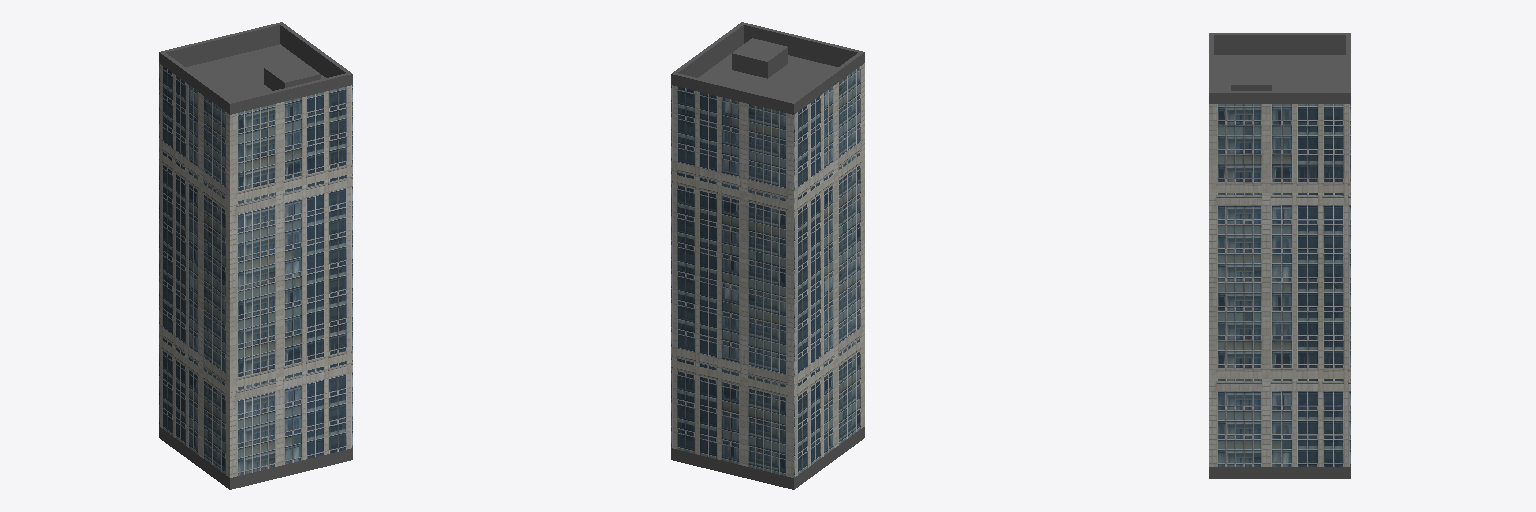
3 renders of one model, left to right at view 1: azimuth 30°, elevation 25°; view 2: azimuth 150°, elevation 25°; view 3: azimuth 270°, elevation 25°, orthographic.
Visible parts, largest first — view 1: Cube.002_Cube.003; view 2: Cube.002_Cube.003; view 3: Cube.002_Cube.003.
Part boxes in pixels (left/top/right/bottom): Cube.002_Cube.003: left=159, top=22, right=352, bottom=489; Cube.002_Cube.003: left=671, top=22, right=864, bottom=489; Cube.002_Cube.003: left=1209, top=33, right=1350, bottom=478.
Bounding box in the file's own units: 2 × 6 × 2.
2 materials, 1 textured.